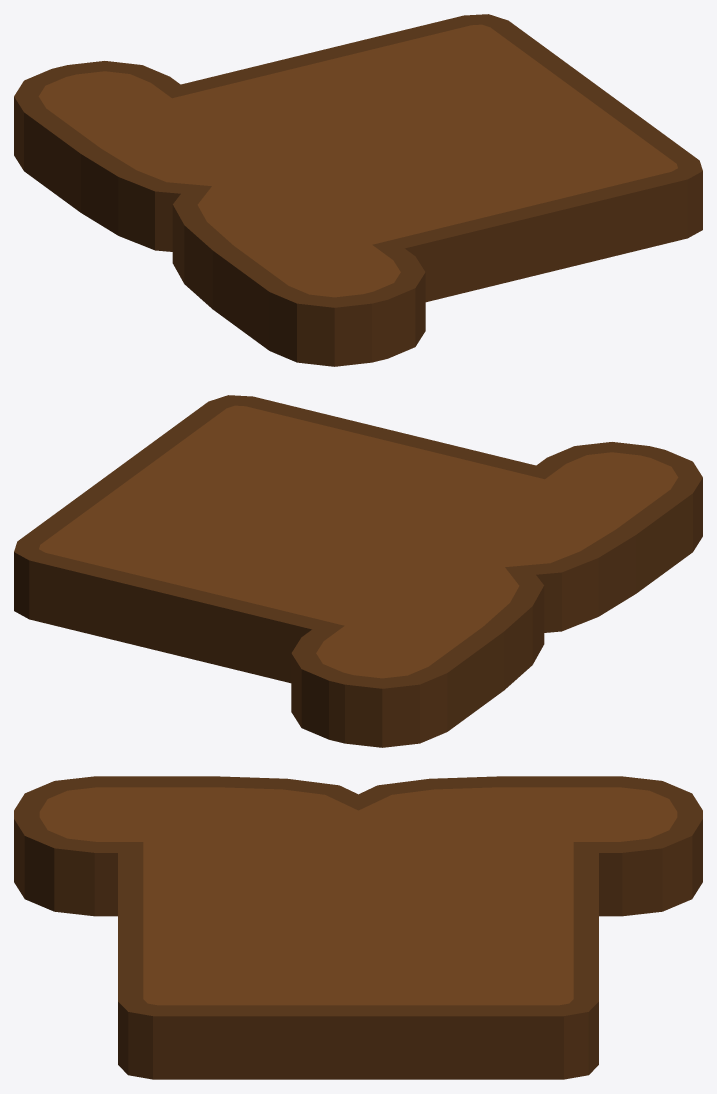
Rendered from toastedBread.fbx.
3 renders of one model, top to bottom at view 1: azimuth 30°, elevation 25°; view 2: azimuth 150°, elevation 25°; view 3: azimuth 270°, elevation 25°, orthographic. The views are drawn at different scales.
Visible parts, largest first — view 1: Bread; view 2: Bread; view 3: Bread.
Boxes of the visible parts, bbox=[...] form: Bread: bbox=[14, 14, 702, 366]; Bread: bbox=[14, 395, 702, 747]; Bread: bbox=[14, 776, 702, 1079].
Bounding box in the file's own units: 52.95 × 6.53 × 64.28.
